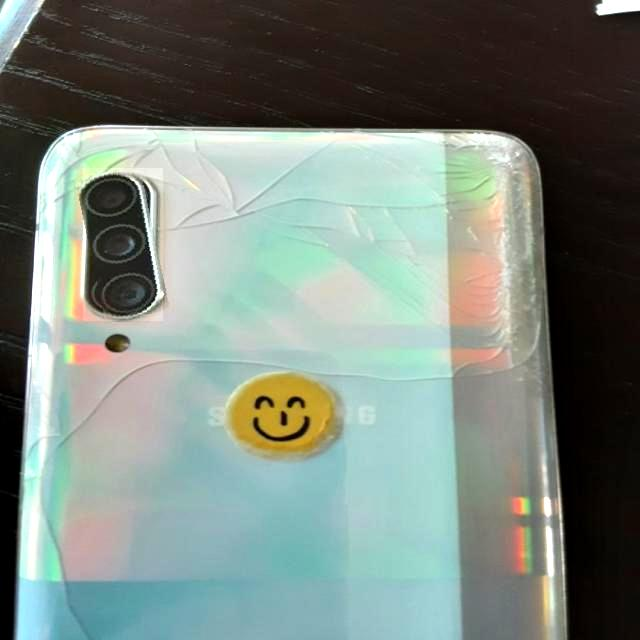lens_back: (83, 168, 163, 321)
